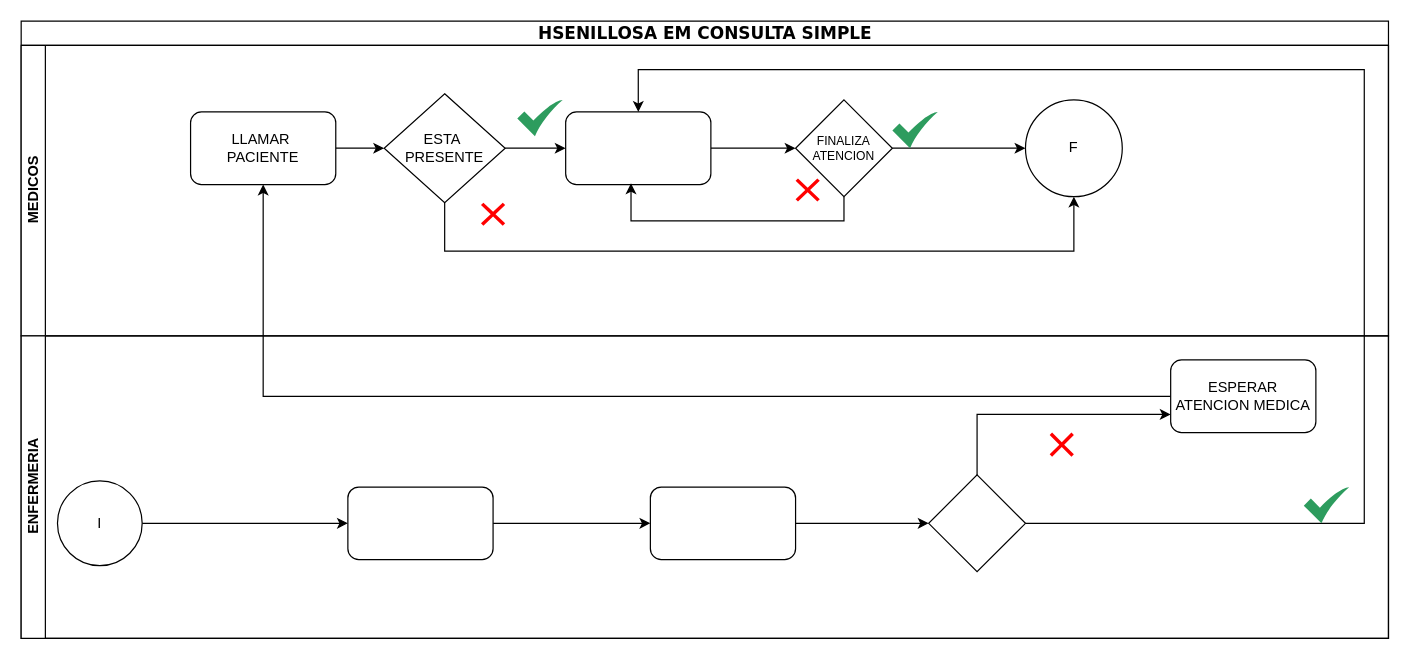
Image size: 1410x659. Some labels were removed from this diagram. Each missing label, with the box of its shape:
ATENDER PACIENTE: (564, 111, 711, 185)
REALIZAR TRIAJE: (649, 486, 796, 560)
RECEPCIONAR PACIENTES: (347, 486, 493, 560)
Shock room: (927, 474, 1025, 572)
